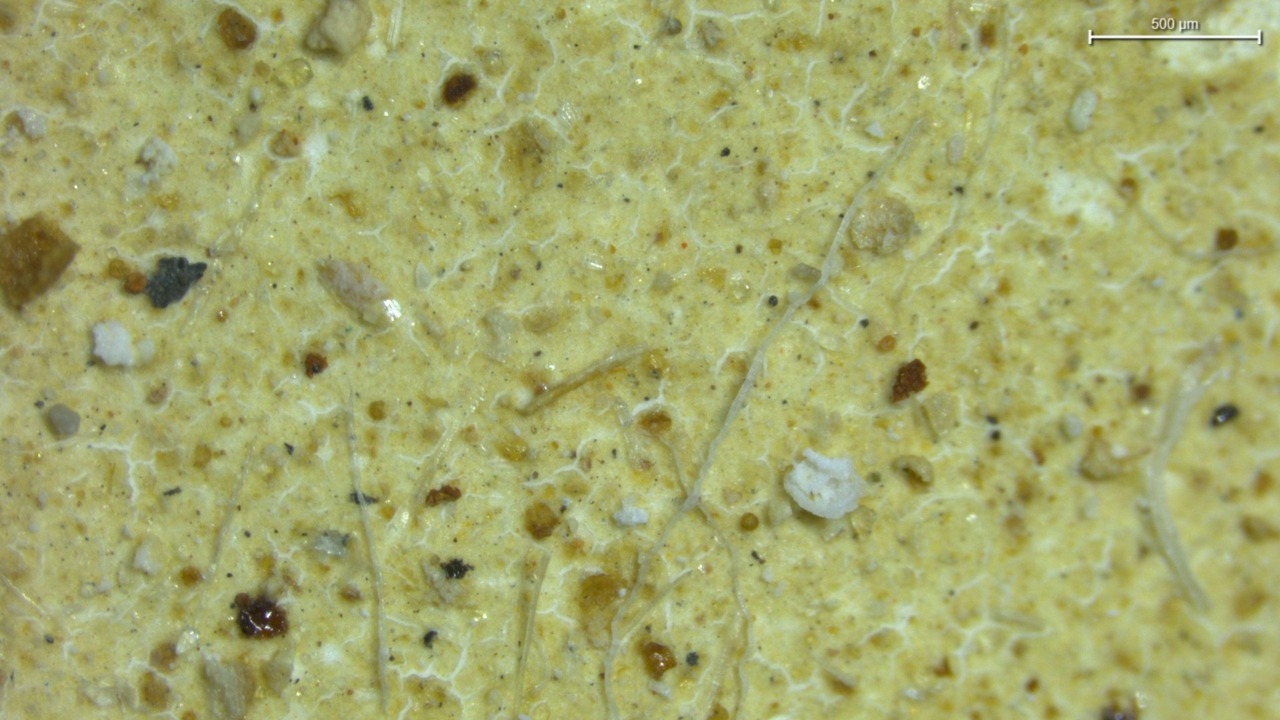microplastic_fragment: (783, 448, 867, 518), (300, 0, 370, 57), (97, 325, 156, 368), (615, 497, 649, 525)
